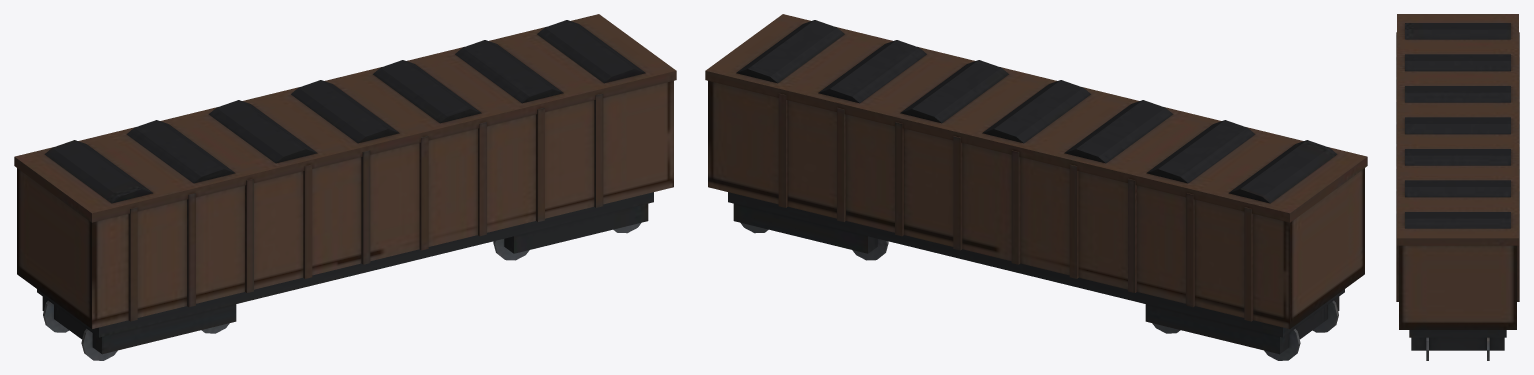
The model's file is towar_wag.glb.
3 renders of one model, left to right at view 1: azimuth 30°, elevation 25°; view 2: azimuth 150°, elevation 25°; view 3: azimuth 270°, elevation 25°, orthographic. The views are drawn at different scales.
Parts seen in each view (by area): view 1: towar_wag; view 2: towar_wag; view 3: towar_wag.
Boxes of the visible parts, x1,y1,x2,y2 form: towar_wag: (14, 14, 676, 360); towar_wag: (705, 14, 1367, 360); towar_wag: (1396, 14, 1519, 360).
Size of the model in its own units: 13.06 by 3.75 by 3.04.
Materials: 1 (1 with a texture image).
